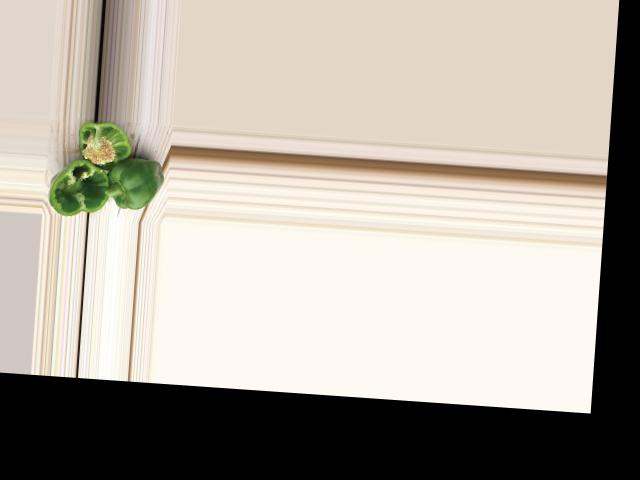bell_pepper: (65, 119, 137, 171)
